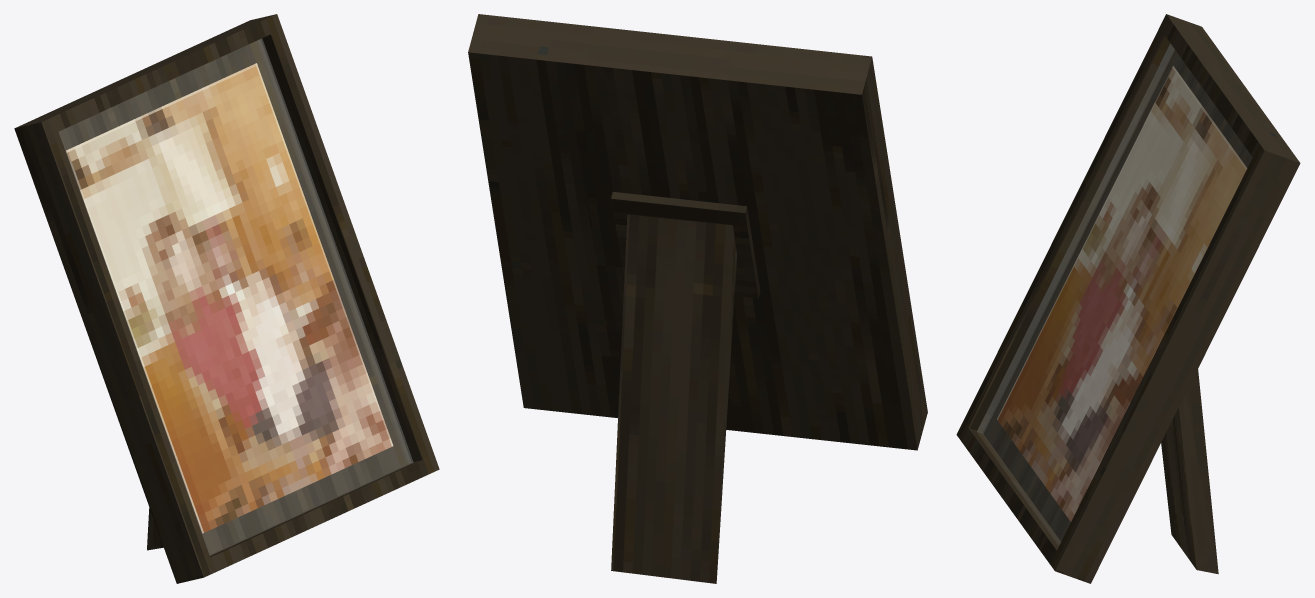
File: frame_keithwithmom.fbx
3 views of the same model, side by side, from view 1: azimuth 30°, elevation 25°; view 2: azimuth 150°, elevation 25°; view 3: azimuth 270°, elevation 25° (orthographic). The views are drawn at different scales.
Visible parts, largest first — view 1: model; view 2: model; view 3: model.
Part boxes in pixels (<box>): model: <box>14,14,439,583</box>; model: <box>468,14,927,583</box>; model: <box>956,14,1300,583</box>.
Bounding box in the file's own units: 24.8 × 31.64 × 21.01.
